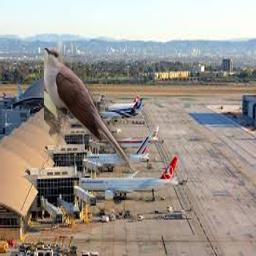Cuckoo: (44, 47, 138, 177)
